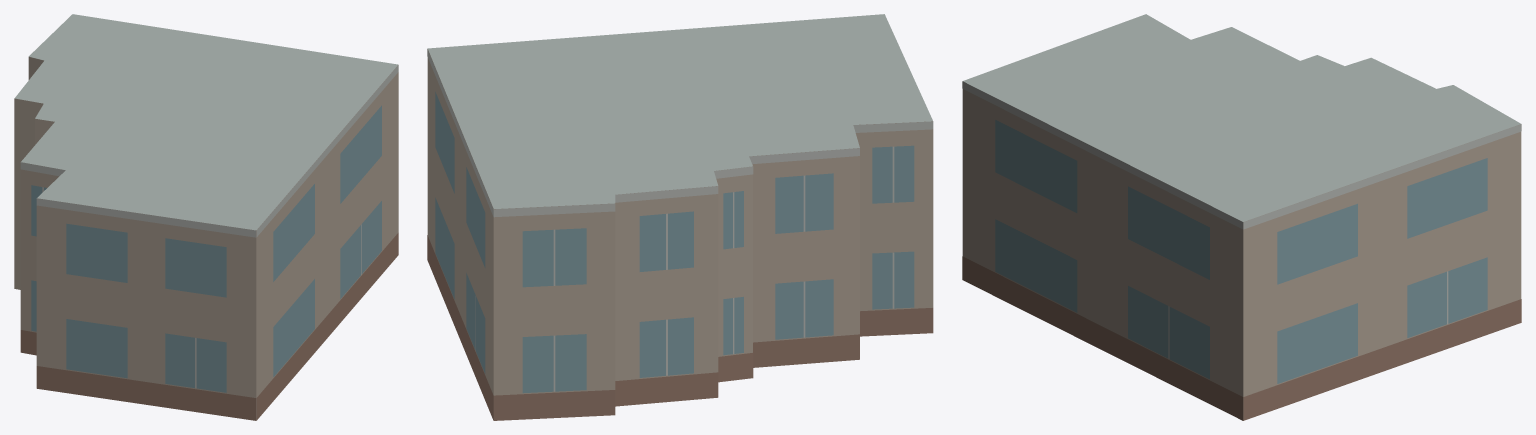
The model's file is survey-upis-32925803.glb.
3 renders of one model, left to right at view 1: azimuth 30°, elevation 25°; view 2: azimuth 150°, elevation 25°; view 3: azimuth 270°, elevation 25°, orthographic. The views are drawn at different scales.
Visible parts, largest first — view 1: survey-upis-32925803.tmp; view 2: survey-upis-32925803.tmp; view 3: survey-upis-32925803.tmp.
Boxes of the visible parts, bbox=[...] form: survey-upis-32925803.tmp: bbox=[14, 14, 398, 420]; survey-upis-32925803.tmp: bbox=[427, 14, 933, 420]; survey-upis-32925803.tmp: bbox=[962, 14, 1521, 420].
Bounding box in the file's own units: 14.37 × 6.4 × 16.32.
